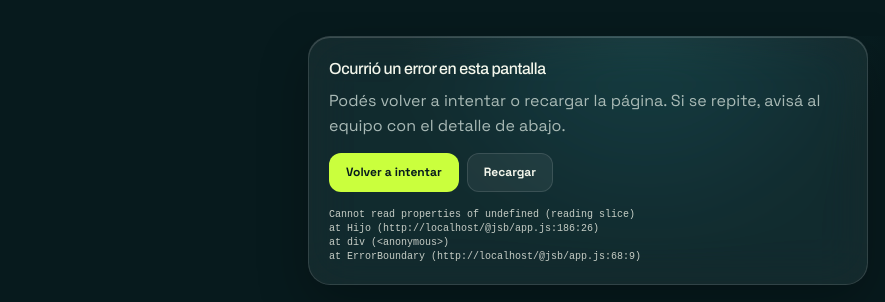
Test: ErrorBoundary › "Volver a intentar" reinicia el estado y vuelve a mostrar la pantalla si el error ya no ocurre
The image size is (885, 302).
What coordinates should you click on to do the following:
click the button "Volver a intentar"
I would click on:
 (394, 172)
Its box is [329,153,459,192].
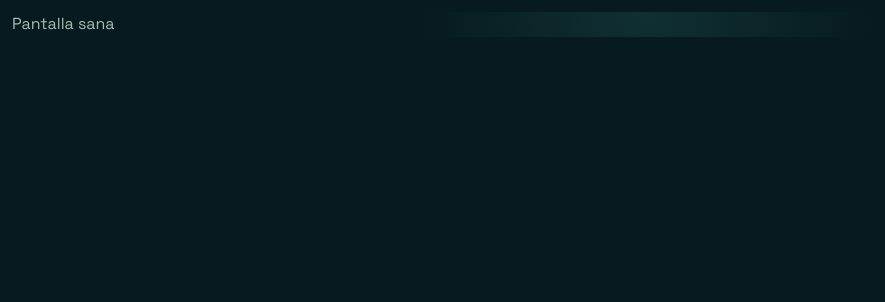
Check: the text "Pantalla sana" is shown, box [12,13,114,34]
Check: the text "Ocurrió un error" is gone
